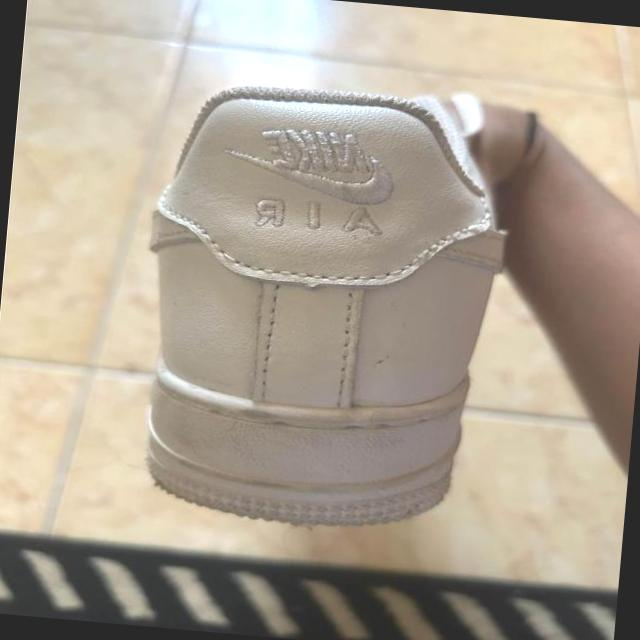nike_fake_airforce: (127, 67, 520, 539)
